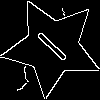I: (27, 22, 70, 64)
